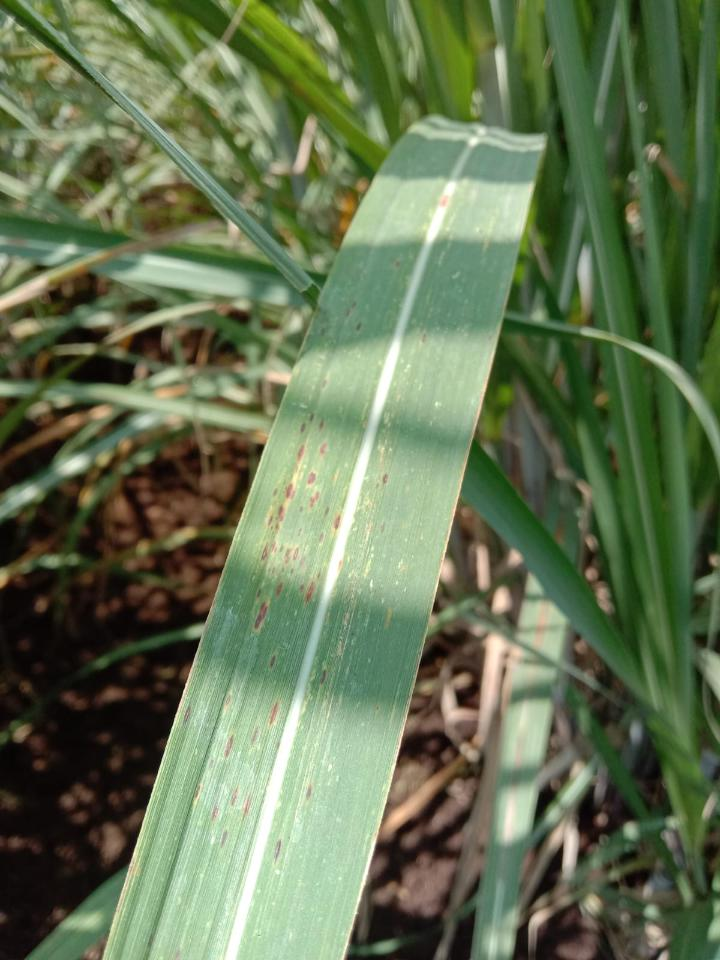RedRot: (438, 193, 451, 208)
Rust: (249, 594, 269, 635), (190, 780, 205, 811), (221, 730, 236, 759), (302, 579, 317, 607), (179, 703, 195, 729), (270, 837, 282, 867), (268, 649, 281, 676), (268, 698, 279, 729), (218, 827, 230, 854), (241, 792, 252, 819), (283, 481, 297, 502), (229, 783, 240, 809), (304, 776, 314, 803), (249, 723, 260, 747), (309, 489, 321, 511), (318, 664, 329, 687), (275, 502, 286, 523), (212, 801, 222, 824), (221, 692, 234, 709), (306, 469, 319, 486), (260, 540, 269, 564), (275, 580, 285, 598), (284, 547, 294, 565), (296, 443, 305, 461), (292, 544, 300, 562), (319, 439, 327, 457), (381, 472, 389, 490), (355, 319, 364, 334), (318, 417, 326, 433), (270, 539, 278, 554), (334, 514, 341, 531), (299, 421, 307, 435), (318, 530, 325, 544), (420, 331, 427, 345), (255, 587, 263, 599), (309, 411, 316, 424), (380, 521, 386, 536), (296, 526, 303, 538), (337, 558, 342, 574), (394, 260, 402, 270), (267, 514, 273, 527), (344, 307, 351, 318), (272, 486, 278, 498), (320, 326, 326, 337), (279, 543, 285, 553), (324, 506, 330, 516), (322, 378, 327, 390), (299, 581, 304, 592), (300, 556, 306, 565), (351, 301, 357, 309), (275, 523, 280, 531), (375, 704, 380, 712), (272, 565, 275, 575), (295, 465, 298, 475), (317, 572, 321, 579), (290, 568, 294, 574), (281, 567, 285, 573), (300, 505, 303, 513), (270, 526, 273, 532), (272, 531, 274, 535)
